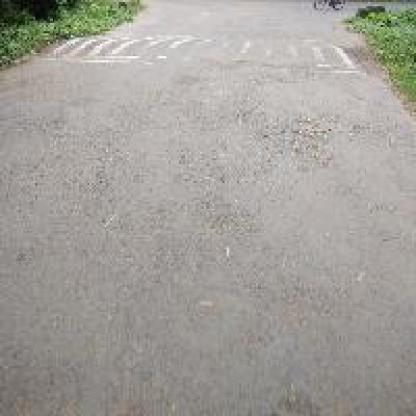Speed Bump: (29, 33, 352, 71)
